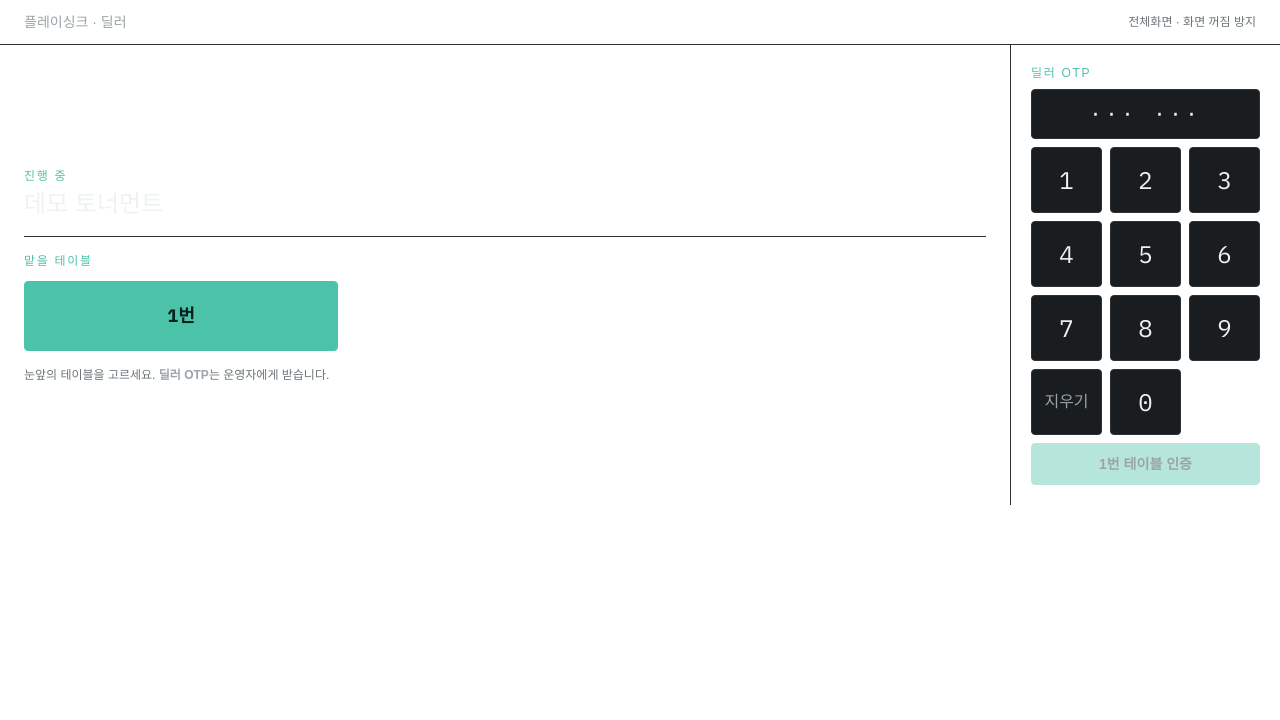
DealerWaitingClient › 딜러 OTP가 여섯 자리가 아니면 제출되지 않는다
What coordinates should you click on to do the following:
click the button "1"
I would click on:
 (1066, 180)
Its box is [1031,147,1102,213].
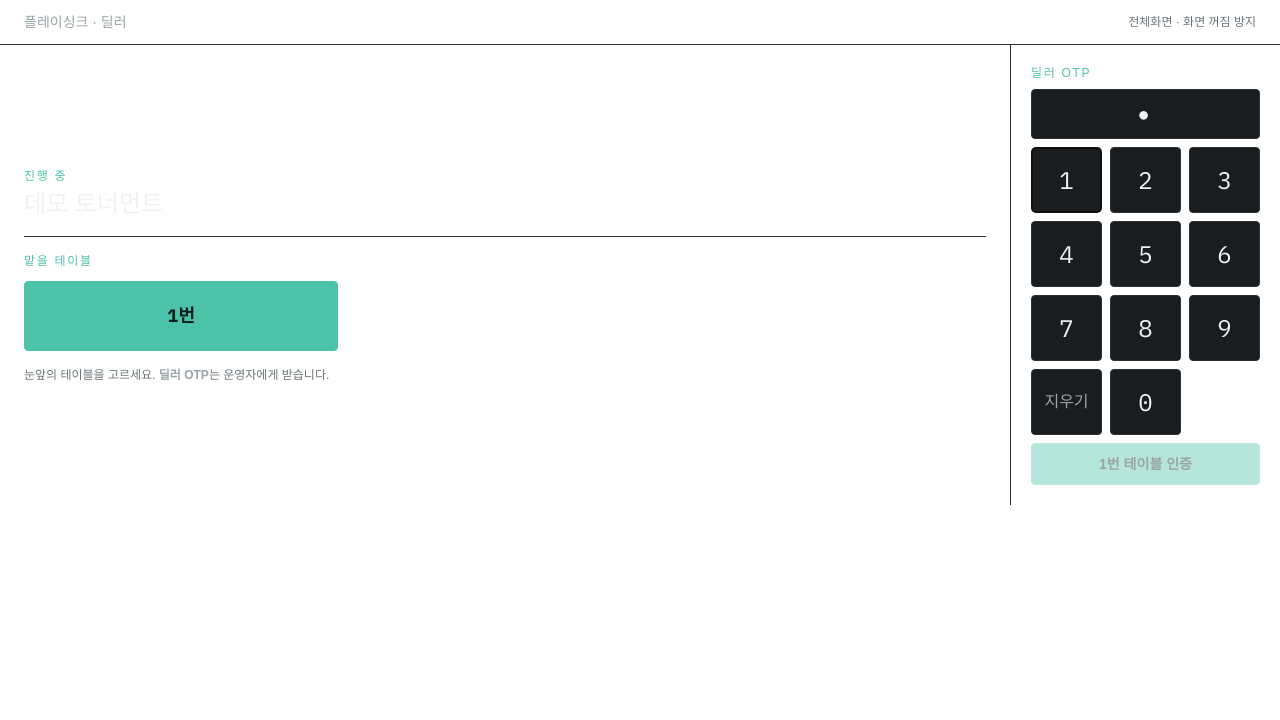
What coordinates should you click on to do the following:
click the button "2"
I would click on:
 (1146, 180)
Its box is [1110,147,1181,213].
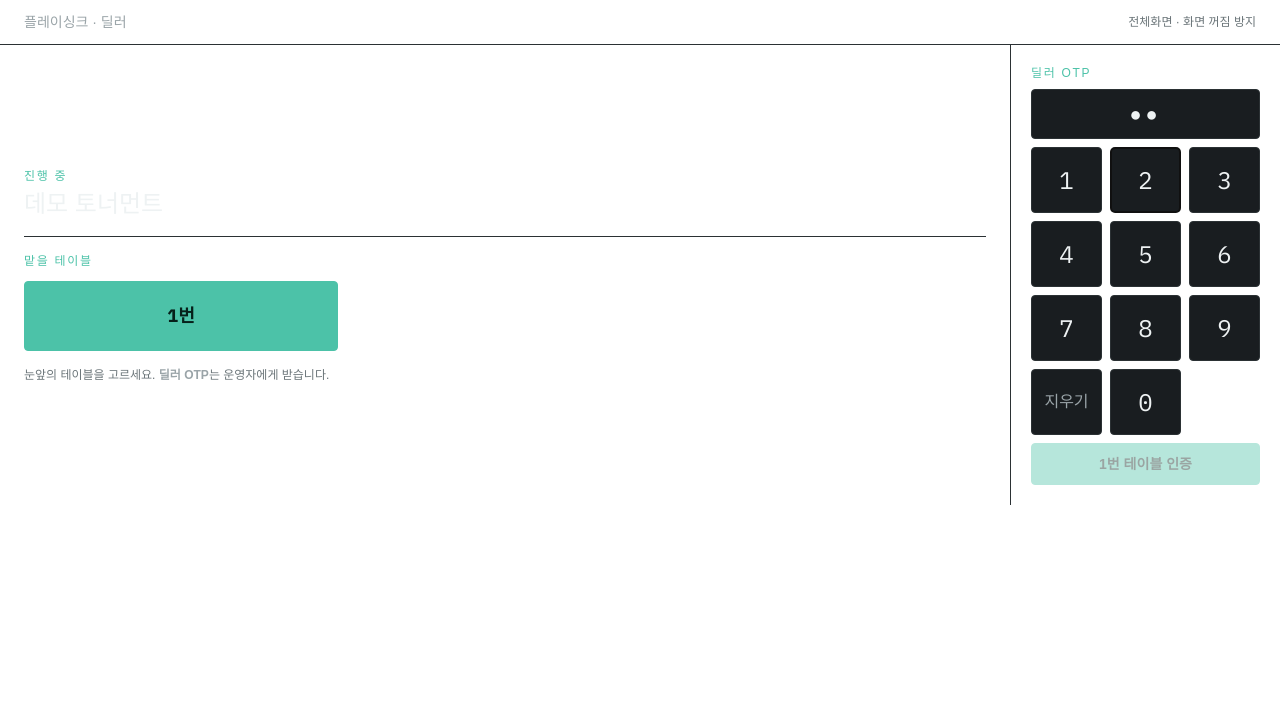
What coordinates should you click on to do the following:
click the button "3"
I would click on:
 (1224, 180)
Its box is [1189,147,1260,213].
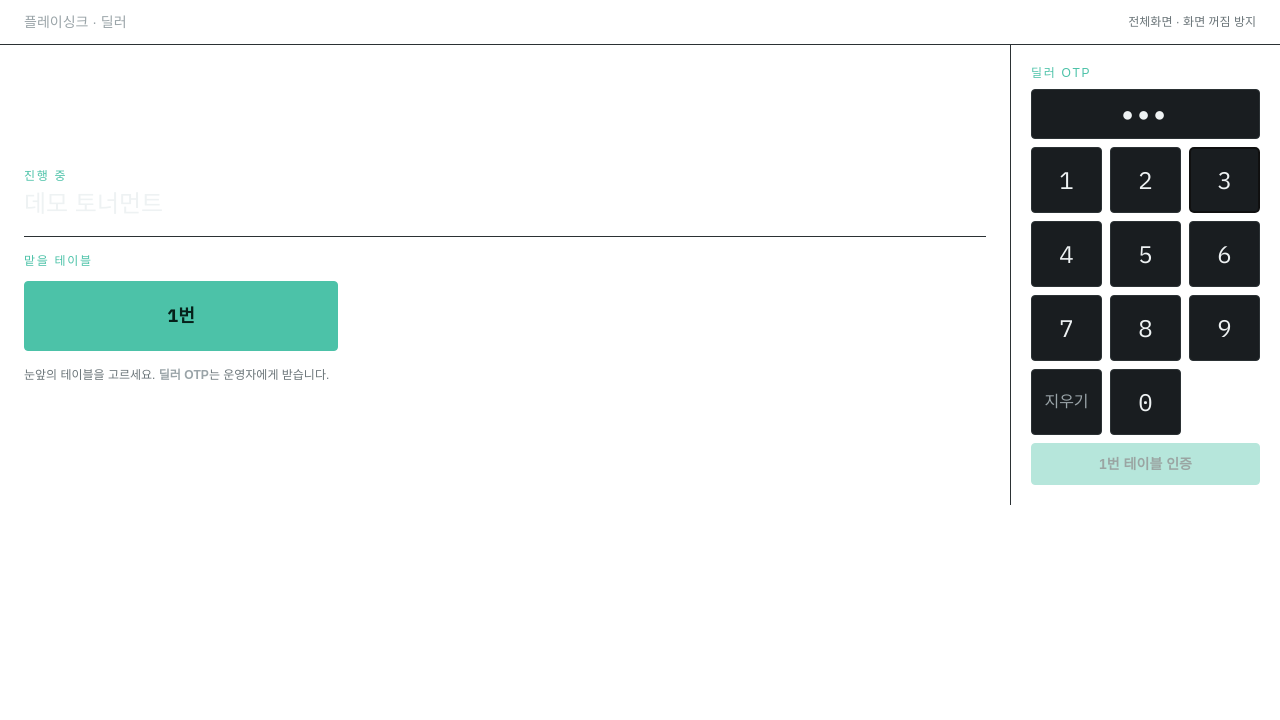
What coordinates should you click on to do the following:
click the button "4"
I would click on:
 (1066, 254)
Its box is [1031,221,1102,287].
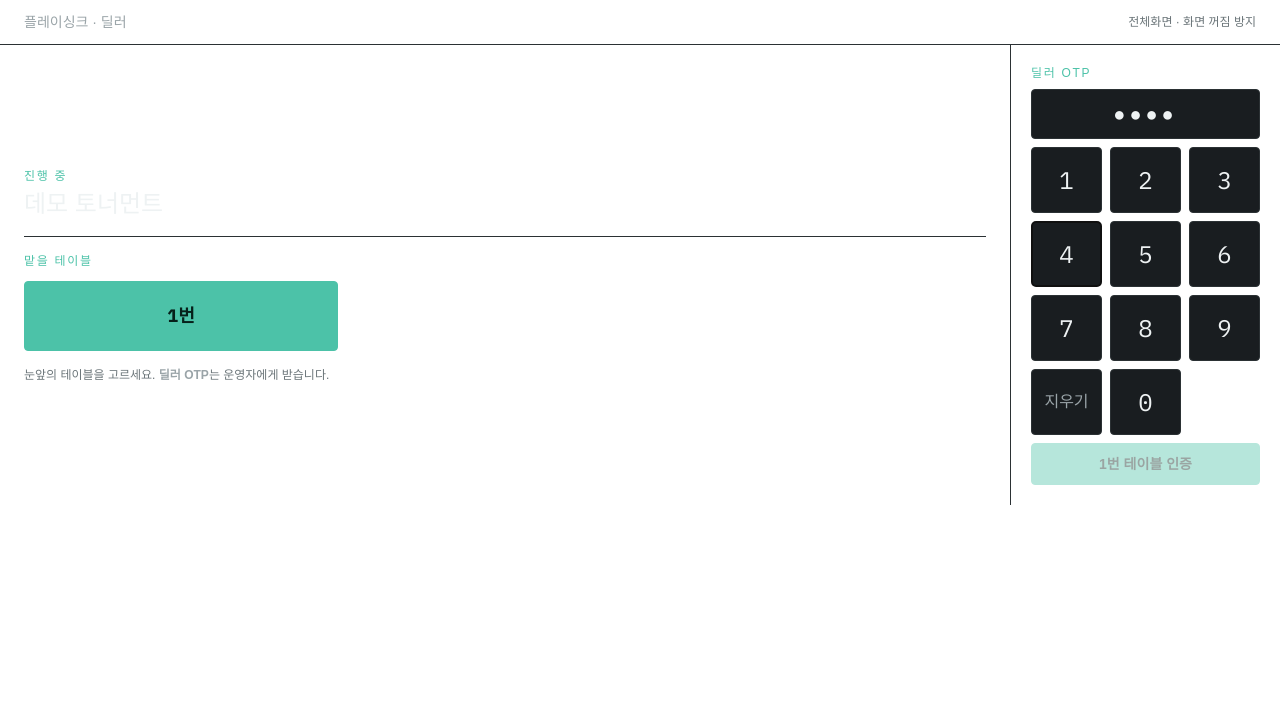
What coordinates should you click on to do the following:
click the button "5"
I would click on:
 (1146, 254)
Its box is [1110,221,1181,287].
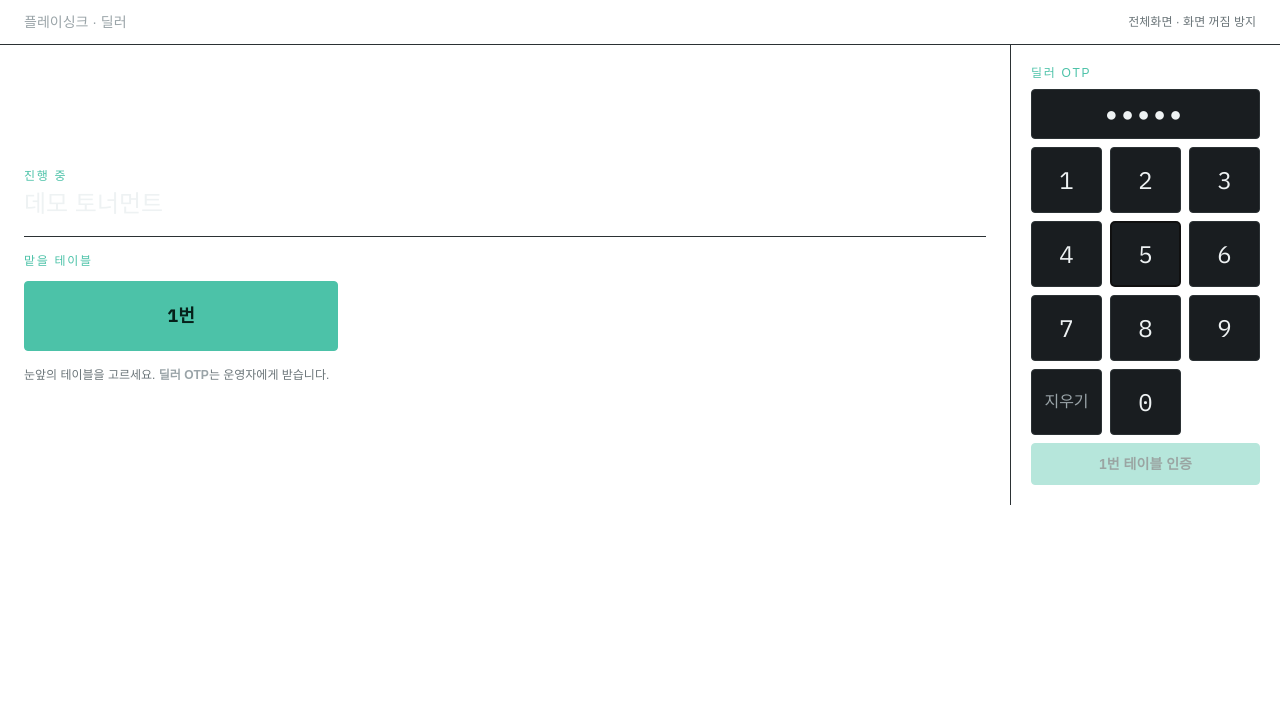
Check: the button "1번 테이블 인증" is disabled, box [1031,443,1260,485]
What coordinates should you click on to do the following:
click the button "6"
I would click on:
 (1224, 254)
Its box is [1189,221,1260,287].
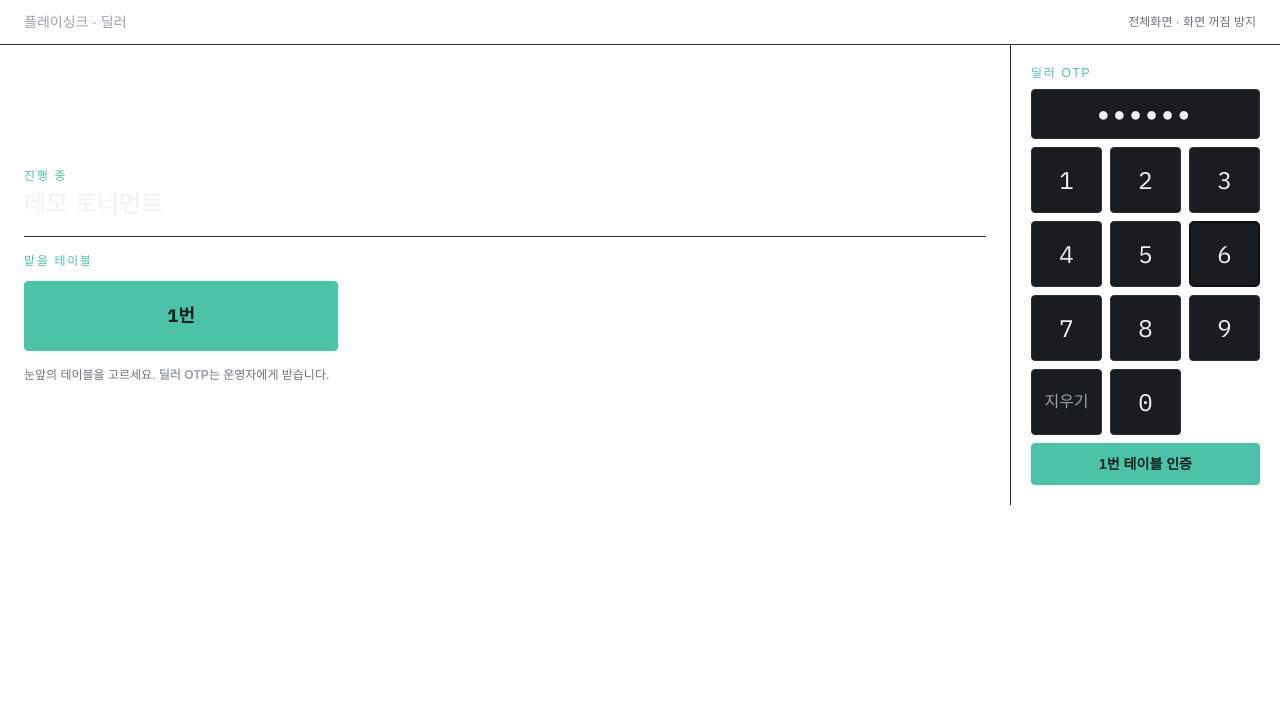
Check: the button "1번 테이블 인증" is enabled, box [1031,443,1260,485]
